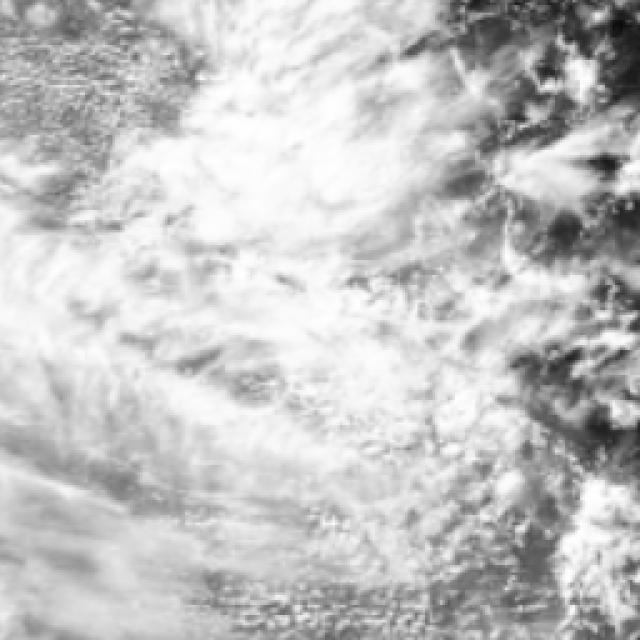CB: (225, 0, 379, 156), (173, 118, 358, 246)
